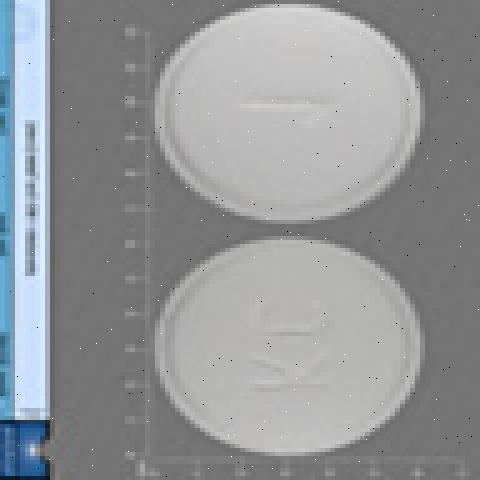Pill: (93, 5, 448, 230), (129, 232, 446, 465)
